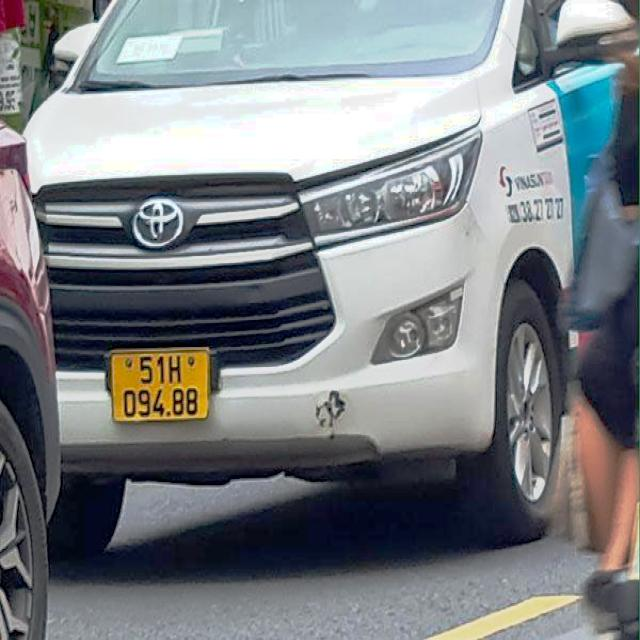license_plate: (112, 350, 210, 422)
